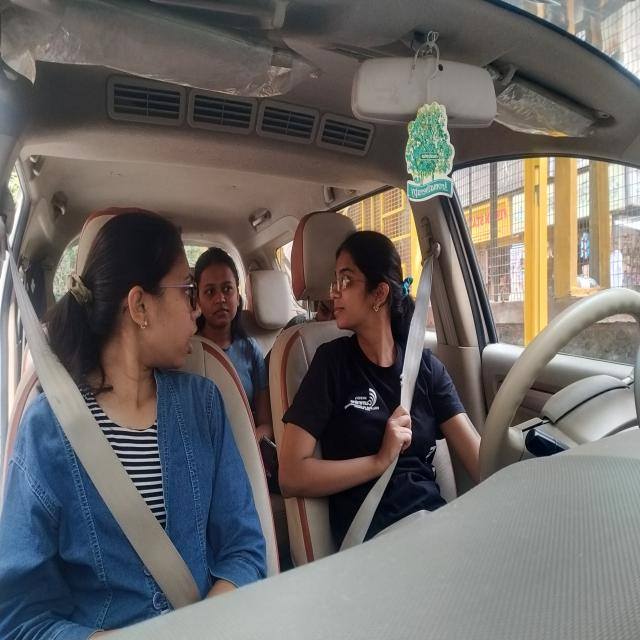LeftRight: (328, 229, 394, 332)
person: (103, 207, 204, 372), (194, 242, 244, 338)
